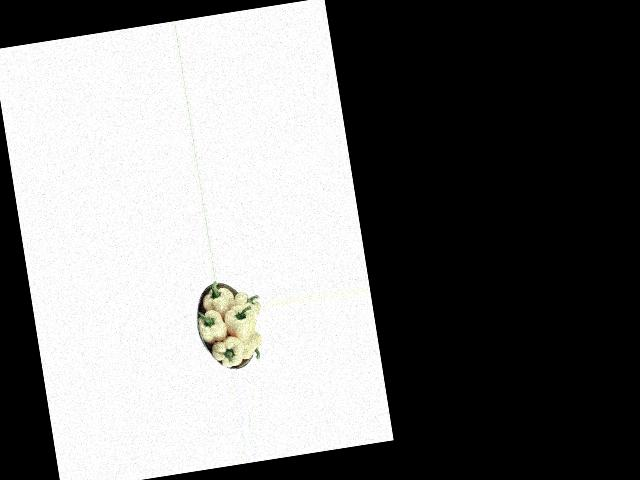bell_pepper: (229, 286, 261, 319)
